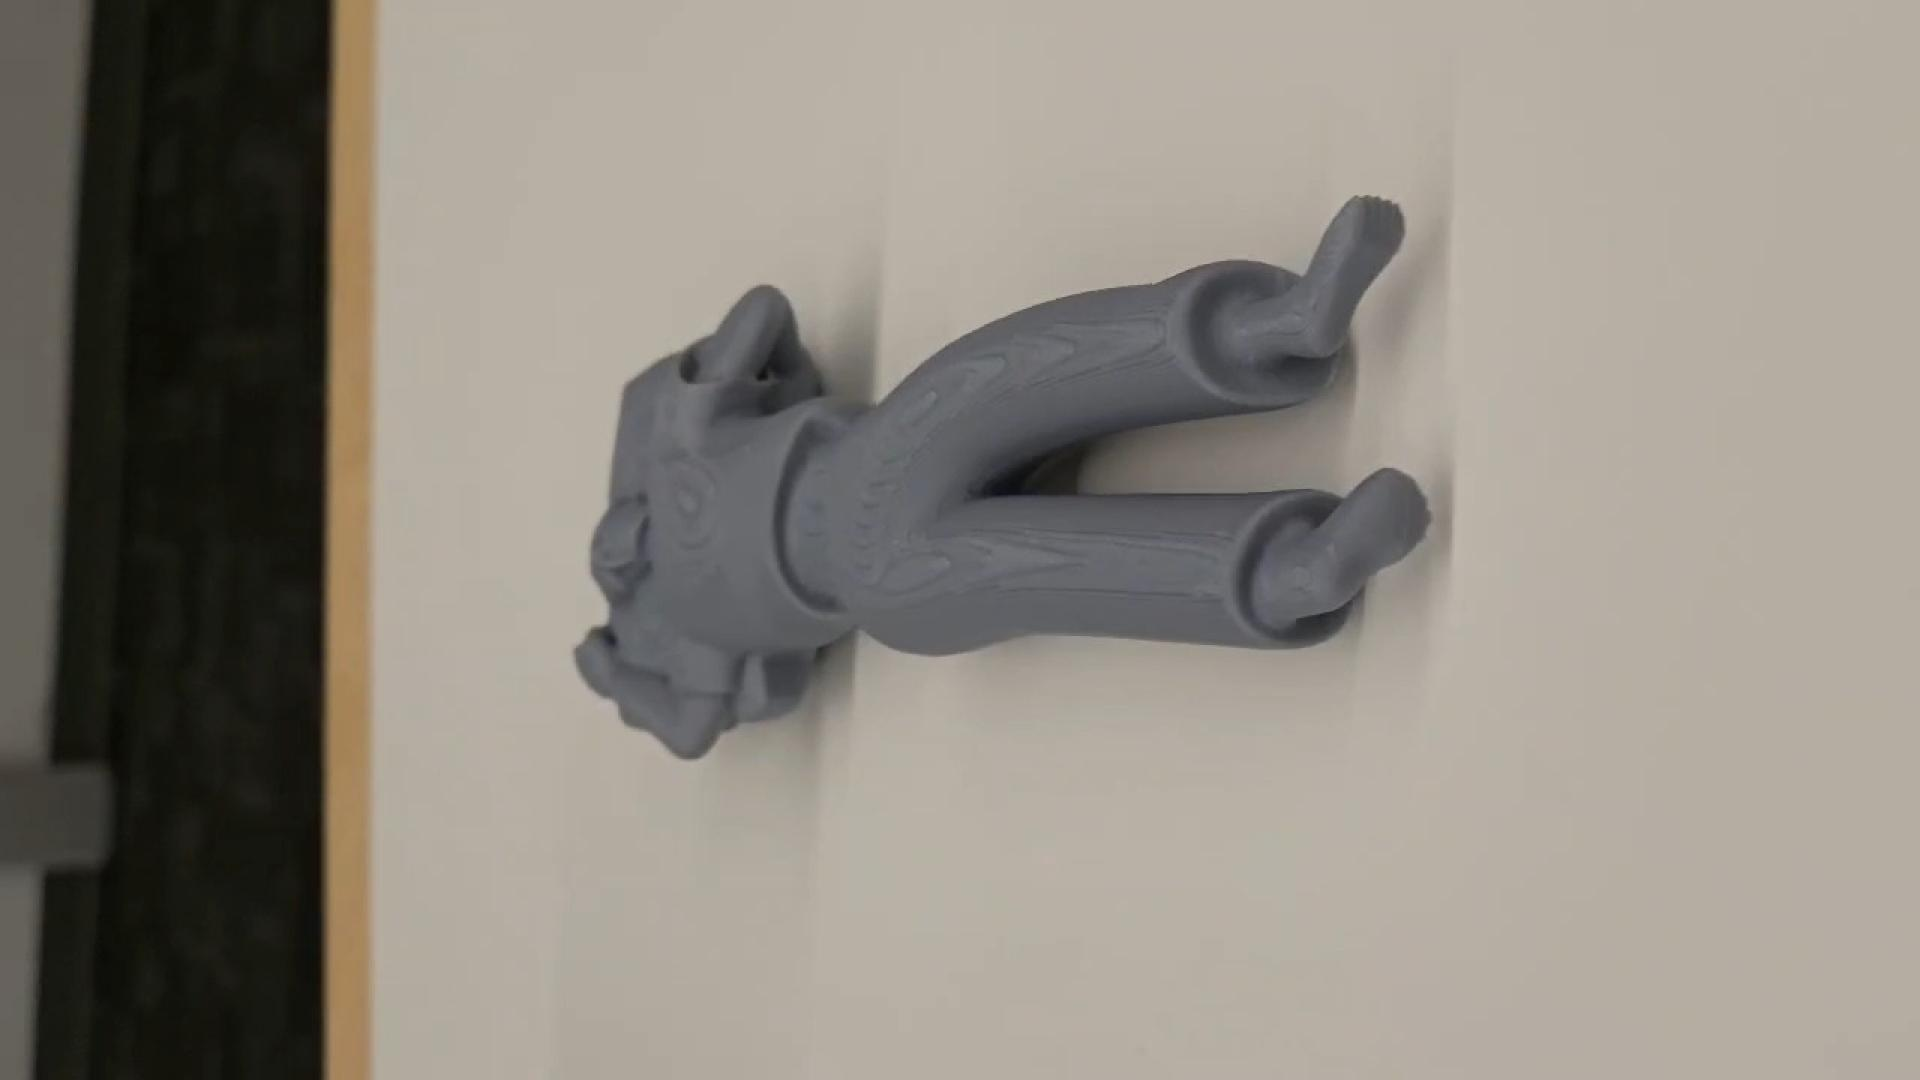Bad-style: (567, 186, 1433, 771)
